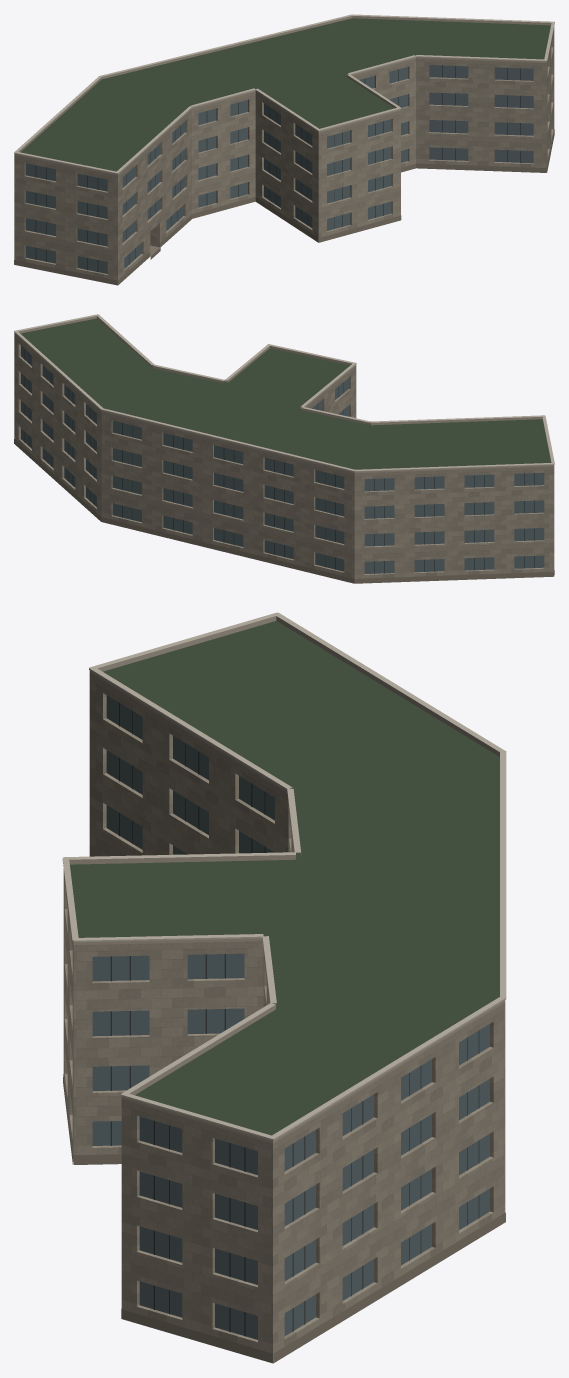
3 views of the same model, one above another, from view 1: azimuth 30°, elevation 25°; view 2: azimuth 150°, elevation 25°; view 3: azimuth 270°, elevation 25° (orthographic). The views are drawn at different scales.
Parts seen in each view (by area): view 1: jinseonmi__wall, jinseonmi__roof, jinseonmi__glass, jinseonmi__trim, jinseonmi__base, jinseonmi__parapet, jinseonmi__frame; view 2: jinseonmi__wall, jinseonmi__roof, jinseonmi__glass, jinseonmi__trim, jinseonmi__parapet, jinseonmi__base, jinseonmi__frame; view 3: jinseonmi__roof, jinseonmi__wall, jinseonmi__glass, jinseonmi__trim, jinseonmi__parapet, jinseonmi__base, jinseonmi__frame.
Boxes of the visible parts, bbox=[...] form: jinseonmi__wall: bbox=[14, 27, 554, 284]; jinseonmi__roof: bbox=[20, 18, 550, 171]; jinseonmi__glass: bbox=[25, 65, 533, 273]; jinseonmi__trim: bbox=[14, 14, 554, 173]; jinseonmi__base: bbox=[14, 129, 554, 285]; jinseonmi__parapet: bbox=[14, 16, 551, 175]; jinseonmi__frame: bbox=[35, 65, 520, 271]; jinseonmi__wall: bbox=[14, 333, 554, 583]; jinseonmi__roof: bbox=[20, 318, 550, 469]; jinseonmi__glass: bbox=[21, 346, 544, 573]; jinseonmi__trim: bbox=[14, 314, 554, 471]; jinseonmi__parapet: bbox=[14, 316, 554, 473]; jinseonmi__base: bbox=[14, 439, 554, 583]; jinseonmi__frame: bbox=[24, 349, 534, 573]; jinseonmi__roof: bbox=[70, 621, 499, 1363]; jinseonmi__wall: bbox=[63, 673, 505, 1362]; jinseonmi__glass: bbox=[92, 695, 489, 1339]; jinseonmi__trim: bbox=[62, 612, 506, 1140]; jinseonmi__parapet: bbox=[69, 616, 505, 1143]; jinseonmi__base: bbox=[63, 1074, 505, 1363]; jinseonmi__frame: bbox=[110, 703, 479, 1336].
Size of the model in its own units: 69.94 by 14.3 by 24.91.
Materials: 8 (1 with a texture image).
